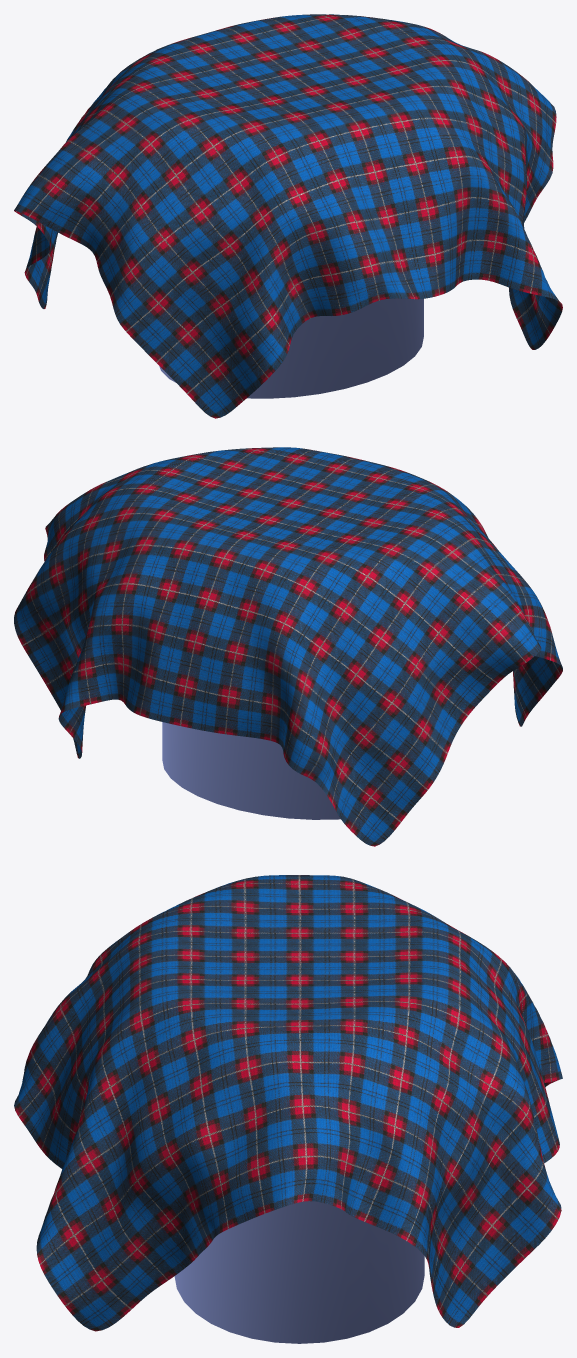
Rendered from Table.fbx.
3 renders of one model, top to bottom at view 1: azimuth 30°, elevation 25°; view 2: azimuth 150°, elevation 25°; view 3: azimuth 270°, elevation 25°, orthographic. The views are drawn at different scales.
Visible parts, largest first — view 1: Table; view 2: Table; view 3: Table.
Part boxes in pixels (bbox=[...]): Table: bbox=[14, 14, 562, 418]; Table: bbox=[14, 447, 562, 846]; Table: bbox=[14, 875, 562, 1343].
Size of the model in its own units: 50.34 by 25.68 by 39.68.
2 materials, 1 textured.
